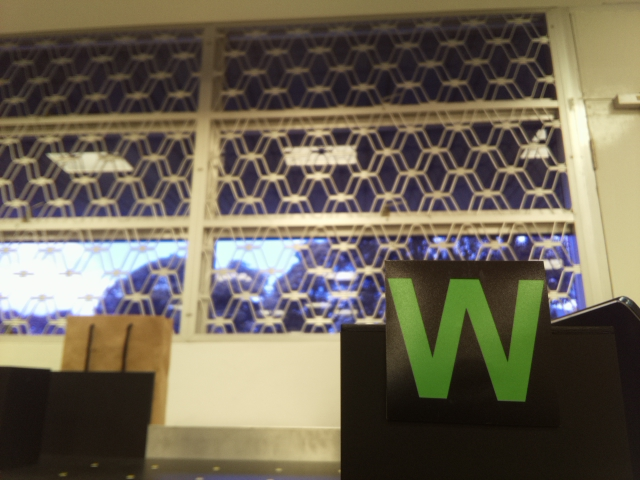w: (384, 266, 547, 409)
